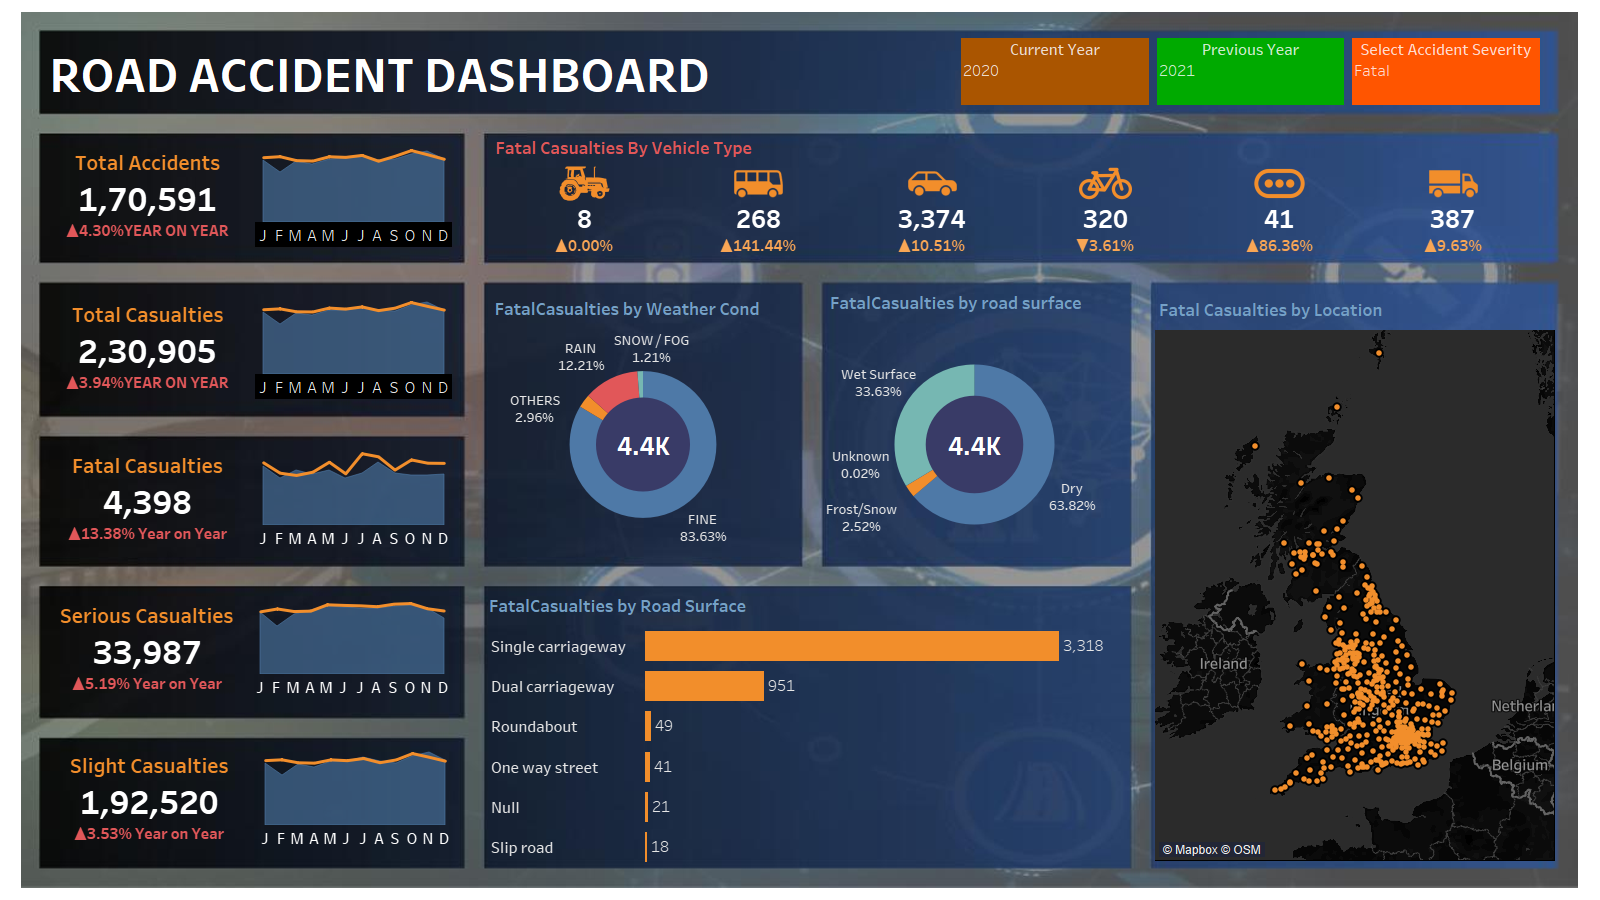

What the dashboard file says about the page in this screenshot:
{"tool":"tableau","page":{"name":"Dashboard 1","canvas":[1600,900],"ordinal":0},"visuals":[{"type":"image","param":"C:/Users/LENOVO/OneDrive/Desktop/Background Template File.jpg","box":[8,8,1584,884]},{"type":"parameter","param":"[Parameters].[Parameter 1]","box":[957,34,195.7,75]},{"type":"parameter","param":"[Parameters].[Current Year (copy)_766174955137765382]","box":[1152.7,34,195.7,75]},{"type":"parameter","param":"[Parameters].[Parameter 2]","box":[1348.3,34,195.7,75]},{"type":"text","box":[46,37,742,71]},{"type":"text","box":[492,135,430,25]},{"type":"worksheet","title":"Total Accidents","mark":"Automatic","box":[46,141,205,110]},{"type":"worksheet","title":"Accident Sparkline","mark":"Automatic","rows":["Current Year Accident (copy)_766174955138953224","Calculation_766174955137953799"],"cols":["Accident Date"],"box":[251,141,205,110]},{"type":"worksheet","title":"Vehicle Type Image","mark":"Shape","box":[494,160,1050,41]},{"type":"worksheet","title":"Vehicle  Type KPI","mark":"Automatic","box":[494,201,1050,59]},{"type":"worksheet","title":"Road Surface","mark":"Pie","rows":["Calculation_757167687386140673","Calculation_757167687386181635"],"box":[826,284,297,282]},{"type":"worksheet","title":"Weather Cond","mark":"Pie","rows":["Calculation_757167687386140673","Calculation_757167687386181635"],"box":[487,290,312,270]},{"type":"worksheet","title":"By Location","mark":"Automatic","rows":["Latitude"],"cols":["Longitude"],"box":[1156,292,399,569]},{"type":"worksheet","title":"Total Casualties","mark":"Automatic","box":[46,293,205,110]},{"type":"worksheet","title":"Total Casualties Sparkline","mark":"Automatic","rows":["Current Year Casualties (copy)_766174955143602188","Calculation_766174955142967307"],"cols":["Accident Date"],"box":[251,293,205,110]},{"type":"worksheet","title":"Fatal Casualties","mark":"Automatic","box":[46,444,205,110]},{"type":"worksheet","title":"Fatal Casualties Sparkline","mark":"Automatic","rows":["Current Fatal Casualties (copy)_766174955147186192","Calculation_766174955145805839"],"cols":["Accident Date"],"box":[251,444,205,110]},{"type":"worksheet","title":"Road Type","mark":"Automatic","rows":["Road_Type"],"cols":["Calculation_766174955142967307"],"box":[485,587,644,280]},{"type":"worksheet","title":"Serious Casualties","mark":"Automatic","box":[47,594,201,110]},{"type":"worksheet","title":"Serious Casualties Sparkline","mark":"Automatic","rows":["Current Year Serious Casualties (copy)_766174955151159316","Current Fatal Casualties (copy)_766174955149746194"],"cols":["Accident Date"],"box":[248,594,208.9,110]},{"type":"worksheet","title":"Slight Casualties","mark":"Automatic","box":[47,744,206,110]},{"type":"worksheet","title":"Slight Casualties Sparkline","mark":"Automatic","rows":["Current Slight Casualties  (copy)_197876977314136065","Current Fatal Casualties (copy)_197876977313849344"],"cols":["Accident Date"],"box":[253,744,203.9,110]}]}

Visuals, with their boxes in screenshot pixels (x1, y1, x2, y2), scaled from the page's 1600x900 canvas onto the 1600x900 screenshot:
image: x1=8 y1=8 x2=1592 y2=892
parameter: x1=957 y1=34 x2=1153 y2=109
parameter: x1=1153 y1=34 x2=1348 y2=109
parameter: x1=1348 y1=34 x2=1544 y2=109
text: x1=46 y1=37 x2=788 y2=108
text: x1=492 y1=135 x2=922 y2=160
"Total Accidents" worksheet: x1=46 y1=141 x2=251 y2=251
"Accident Sparkline" worksheet: x1=251 y1=141 x2=456 y2=251
"Vehicle Type Image" worksheet (Shape marks): x1=494 y1=160 x2=1544 y2=201
"Vehicle  Type KPI" worksheet: x1=494 y1=201 x2=1544 y2=260
"Road Surface" worksheet (Pie marks): x1=826 y1=284 x2=1123 y2=566
"Weather Cond" worksheet (Pie marks): x1=487 y1=290 x2=799 y2=560
"By Location" worksheet: x1=1156 y1=292 x2=1555 y2=861
"Total Casualties" worksheet: x1=46 y1=293 x2=251 y2=403
"Total Casualties Sparkline" worksheet: x1=251 y1=293 x2=456 y2=403
"Fatal Casualties" worksheet: x1=46 y1=444 x2=251 y2=554
"Fatal Casualties Sparkline" worksheet: x1=251 y1=444 x2=456 y2=554
"Road Type" worksheet: x1=485 y1=587 x2=1129 y2=867
"Serious Casualties" worksheet: x1=47 y1=594 x2=248 y2=704
"Serious Casualties Sparkline" worksheet: x1=248 y1=594 x2=457 y2=704
"Slight Casualties" worksheet: x1=47 y1=744 x2=253 y2=854
"Slight Casualties Sparkline" worksheet: x1=253 y1=744 x2=457 y2=854
